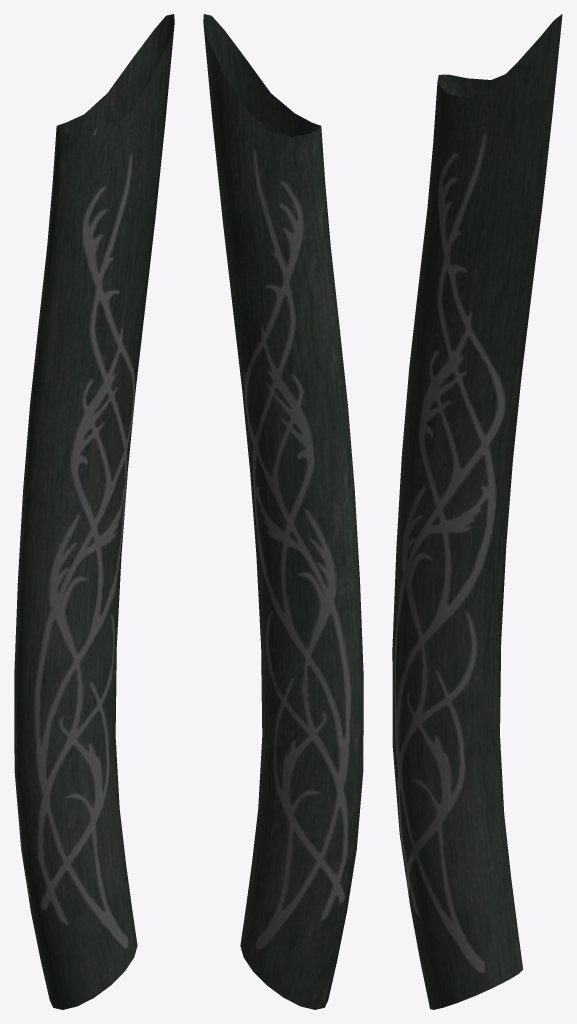
File: wm_rivendell_sword_a02_silver_handle.fbx
3 views of the same model, side by side, from view 1: azimuth 30°, elevation 25°; view 2: azimuth 150°, elevation 25°; view 3: azimuth 330°, elevation 25° (orthographic). The views are drawn at different scales.
Parts seen in each view (by area): view 1: wm_rivendell_sword_a02_silver_handle; view 2: wm_rivendell_sword_a02_silver_handle; view 3: wm_rivendell_sword_a02_silver_handle.
Part boxes in pixels (x1,y1,x2,y2): wm_rivendell_sword_a02_silver_handle: (14,14,174,1009); wm_rivendell_sword_a02_silver_handle: (203,14,363,1009); wm_rivendell_sword_a02_silver_handle: (392,14,562,1009).
Bounding box in the file's own units: 0.062 × 0.0249 × 0.3647.
Materials: 1 (1 with a texture image).
